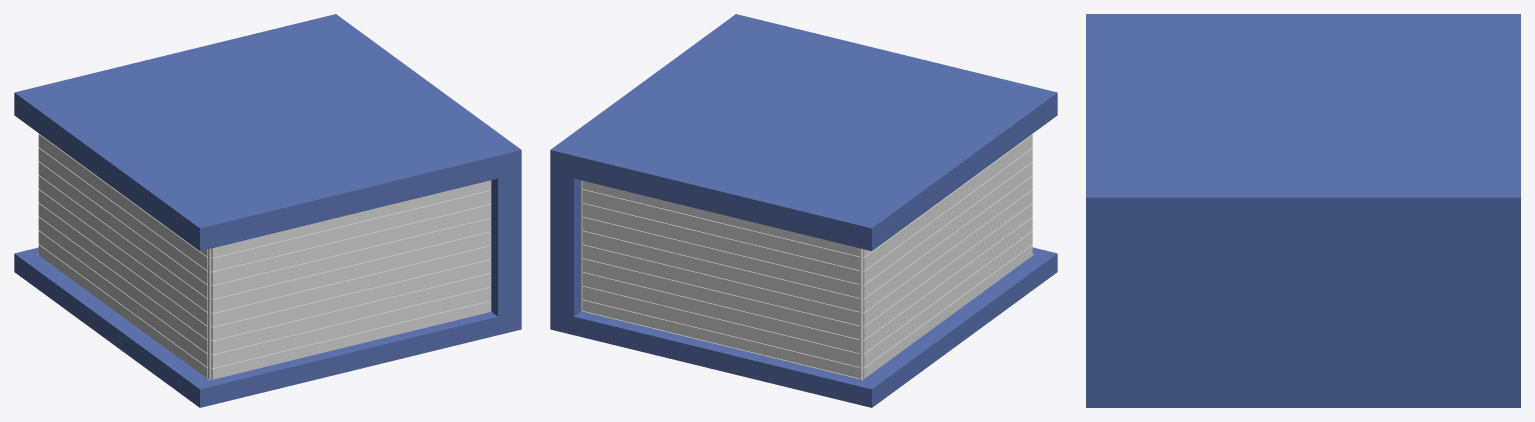
File: book.glb
3 views of the same model, side by side, from view 1: azimuth 30°, elevation 25°; view 2: azimuth 150°, elevation 25°; view 3: azimuth 270°, elevation 25° (orthographic). The views are drawn at different scales.
Visible parts, largest first — view 1: Cube; view 2: Cube; view 3: Cube.
Part boxes in pixels (bbox=[...]): Cube: bbox=[14, 14, 521, 407]; Cube: bbox=[550, 14, 1057, 407]; Cube: bbox=[1086, 14, 1520, 407].
Size of the model in its own units: 0.15 by 0.08 by 0.15.
